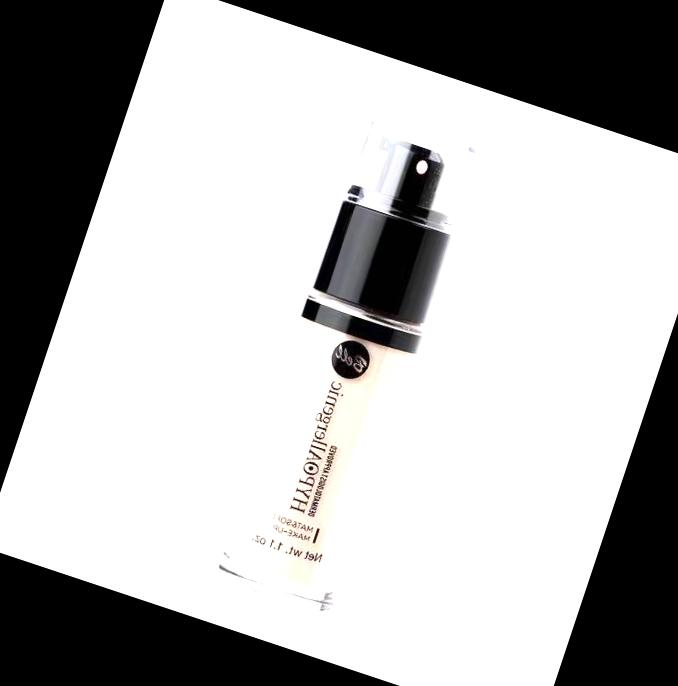cosmetic: (212, 110, 485, 619)
